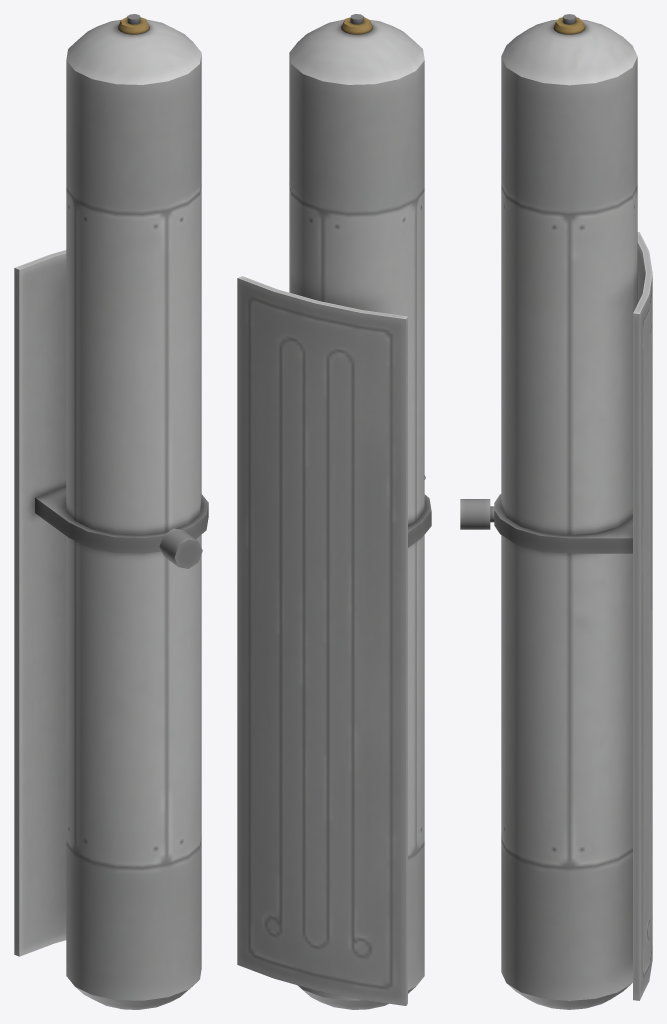
Rendered from Alniyat_MonoSingle_1_2.obj.
3 views of the same model, side by side, from view 1: azimuth 30°, elevation 25°; view 2: azimuth 150°, elevation 25°; view 3: azimuth 270°, elevation 25° (orthographic).
Parts seen in each view (by area): view 1: Alniyat_MonoSingle_1_2; view 2: Alniyat_MonoSingle_1_2; view 3: Alniyat_MonoSingle_1_2.
Boxes of the visible parts, x1,y1,x2,y2 form: Alniyat_MonoSingle_1_2: (14,14,208,1009); Alniyat_MonoSingle_1_2: (237,14,431,1009); Alniyat_MonoSingle_1_2: (460,14,652,1009).
Bounding box in the file's own units: 0.357 × 1.99 × 0.3525.
